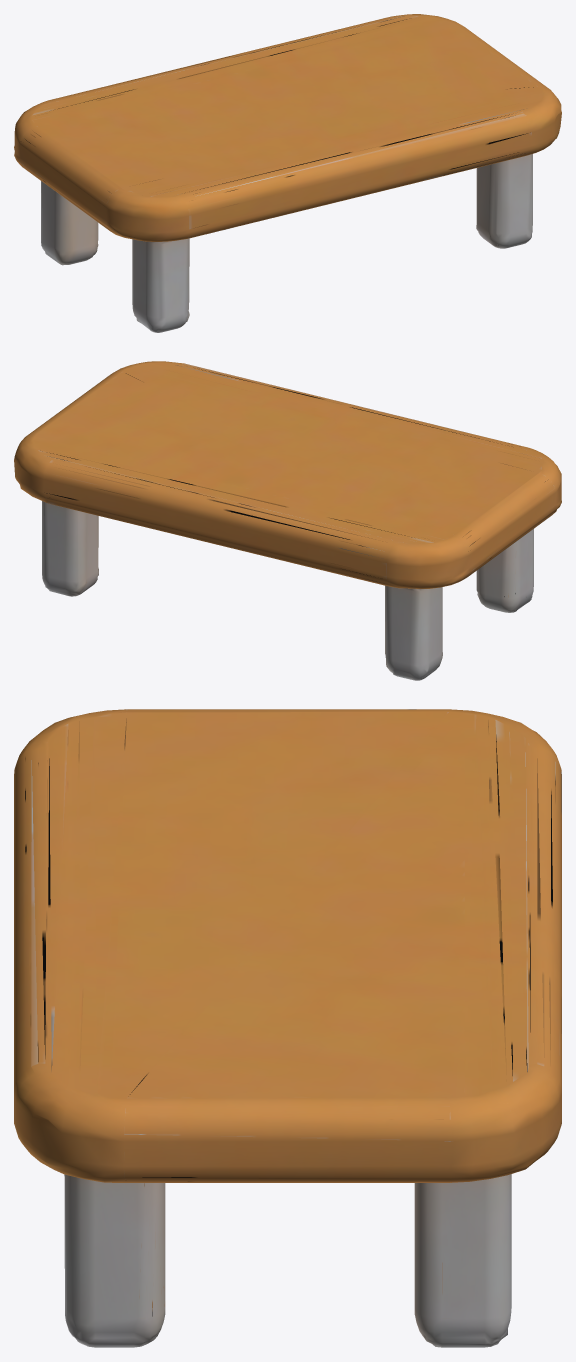
The model's file is lounge_table.glb.
3 renders of one model, top to bottom at view 1: azimuth 30°, elevation 25°; view 2: azimuth 150°, elevation 25°; view 3: azimuth 270°, elevation 25°, orthographic. The views are drawn at different scales.
Parts seen in each view (by area): view 1: geometry_0; view 2: geometry_0; view 3: geometry_0.
Part boxes in pixels (x1,y1,x2,y2): geometry_0: (14,14,561,332); geometry_0: (14,361,561,680); geometry_0: (14,709,561,1347).
Bounding box in the file's own units: 0.9521 × 0.292 × 0.5308.
Materials: 1 (1 with a texture image).
